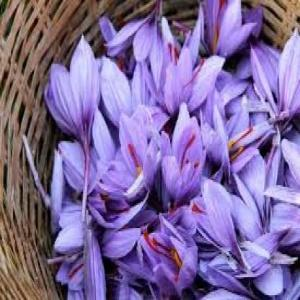Saffron: (43, 41, 101, 145), (179, 184, 242, 259), (107, 4, 168, 81), (82, 227, 107, 300)
